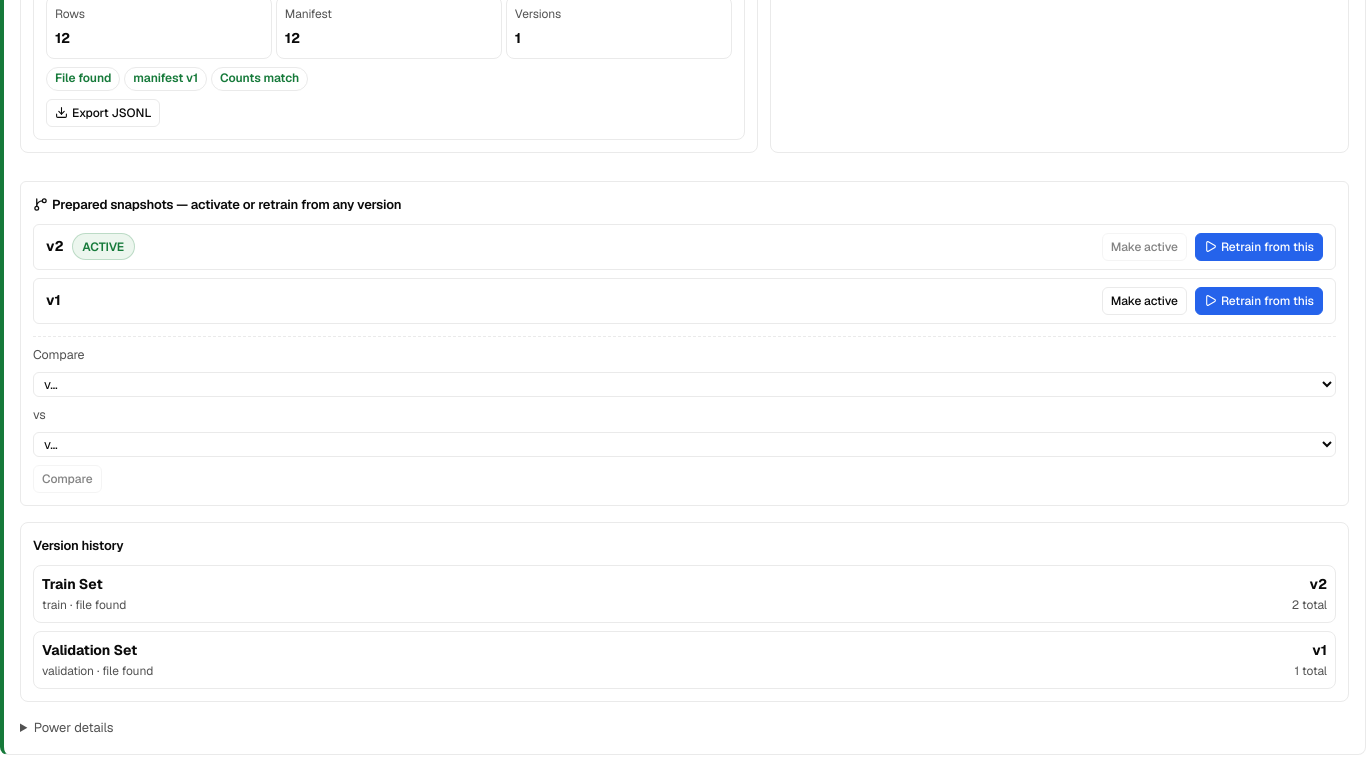
Test case: DataStudioDatasetVersionsPanel › compares two prepared snapshots and shows the diff
(page scrolled)
Expected: the element with test id "version-compare" is shown, [33,336,1336,493]
Select "v1" in the dropdown named "Compare version A" at (684, 384), box [33,372,1336,397]
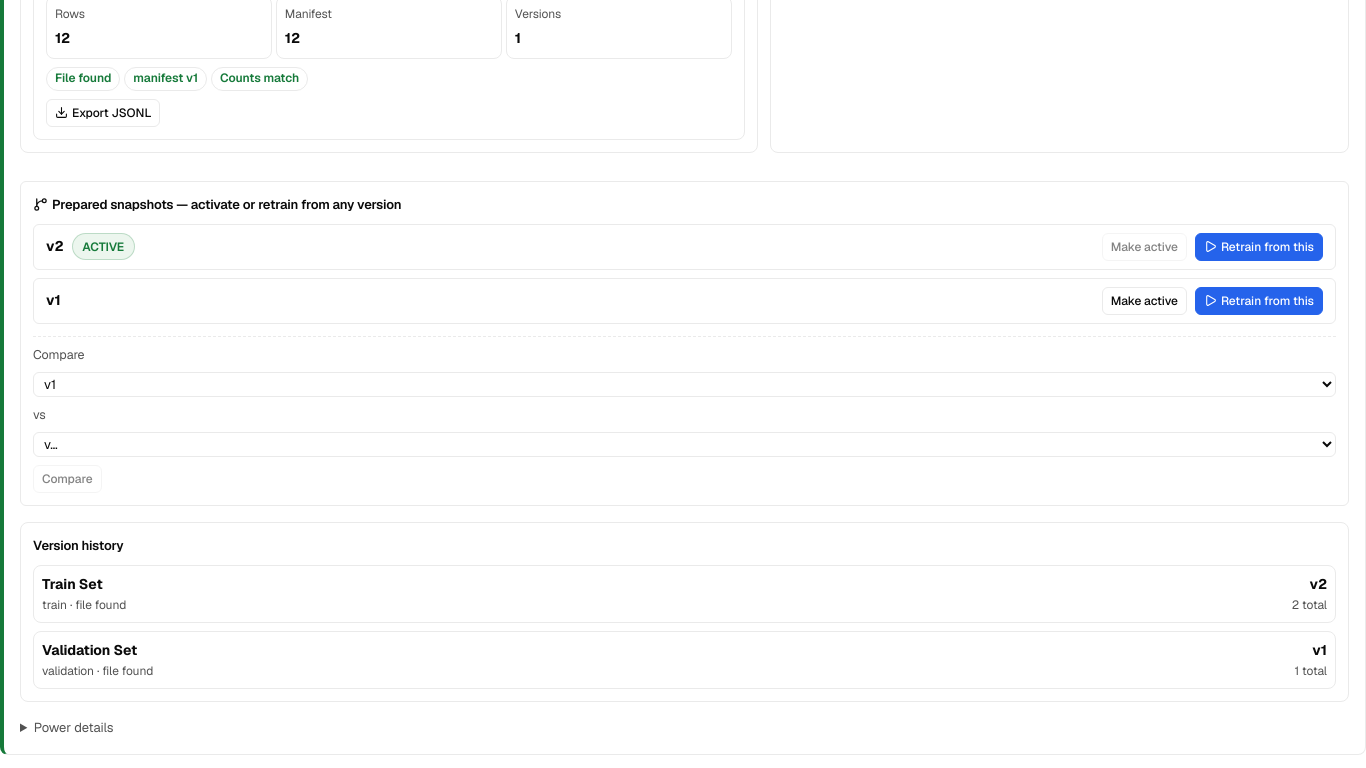
Select "v2" in the dropdown named "Compare version B" at (684, 445), box [33,432,1336,457]
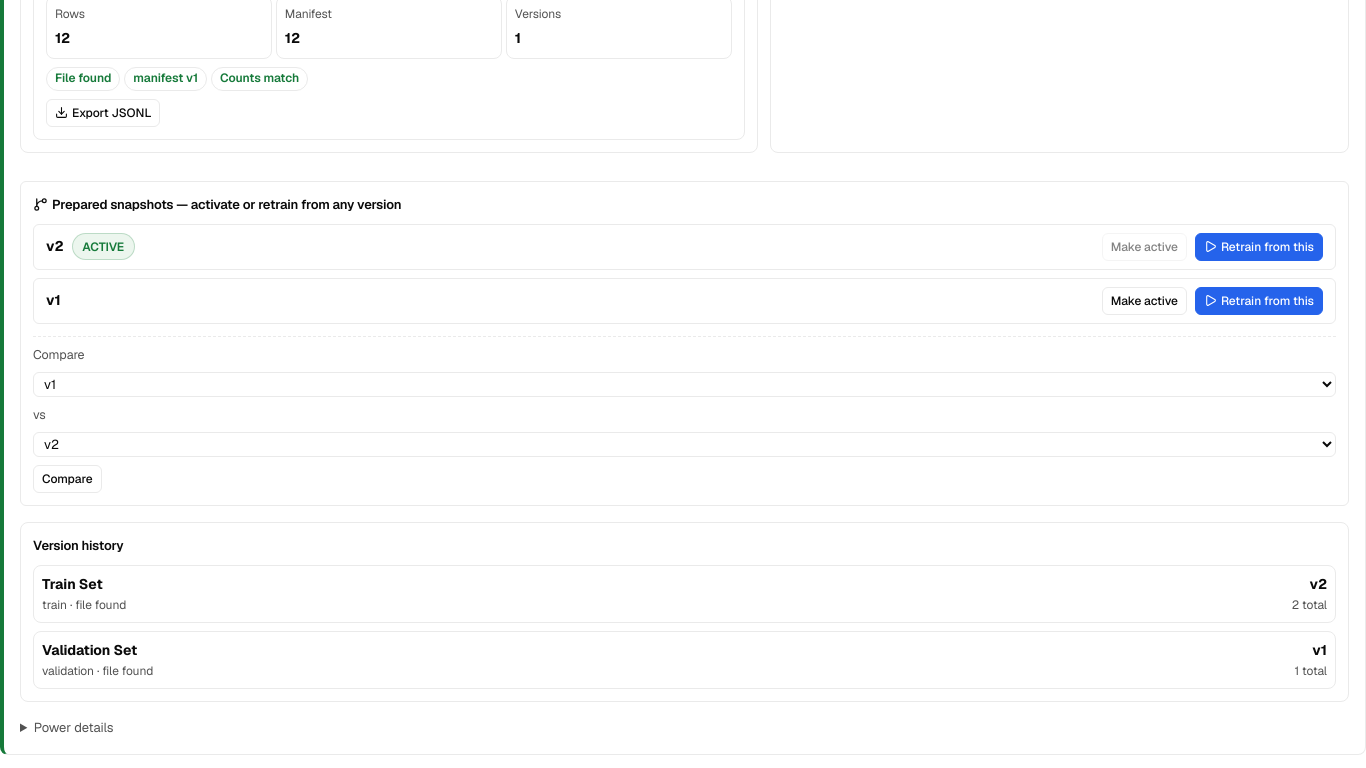
Click the button "Compare".
click(67, 479)  # box [33,465,102,493]
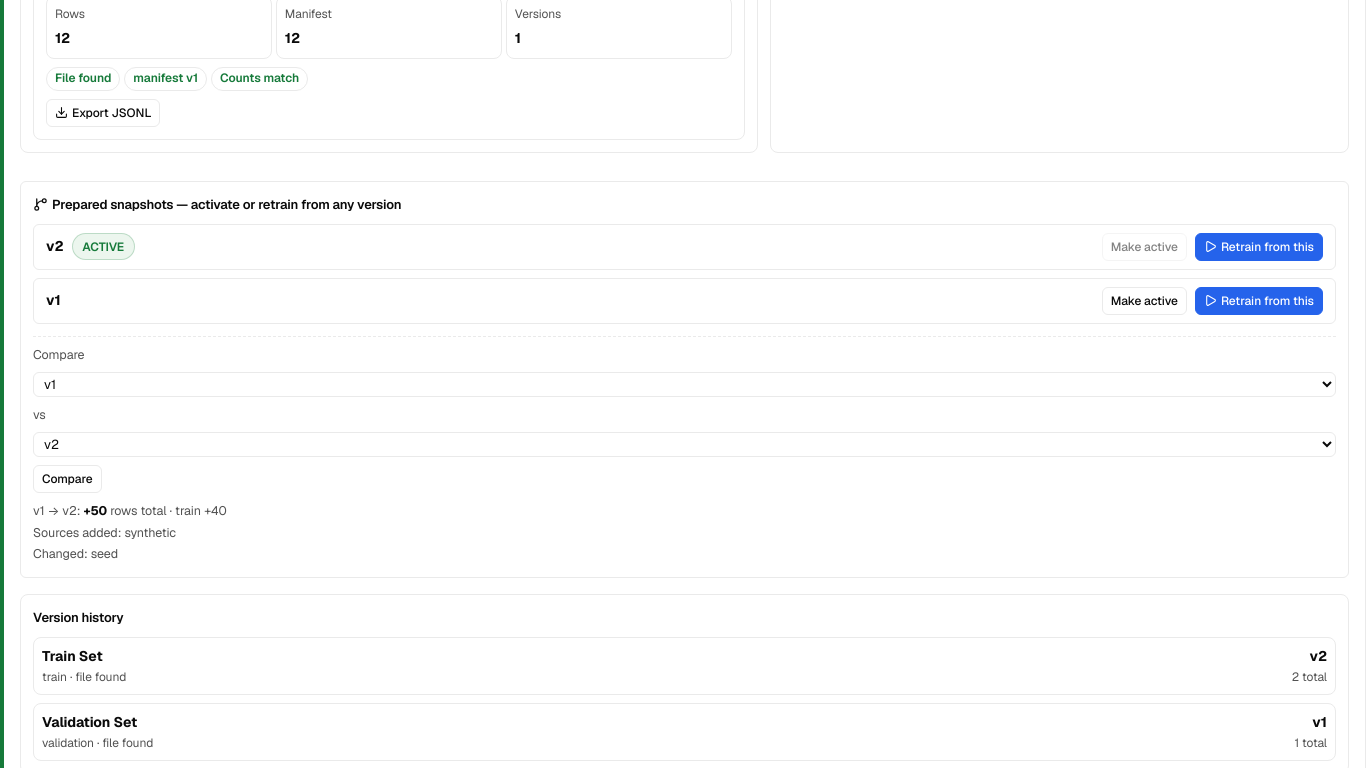
Expected: the element with test id "version-compare-result" reads "v1 → v2: +50 rows total · train +40 Sources added: synthetic Changed: seed", [33,502,227,562]
Expected: the element with test id "version-compare-result" shows "train +40", [33,502,227,562]
Expected: the element with test id "version-compare-result" shows "Sources added: synthetic", [33,502,227,562]
